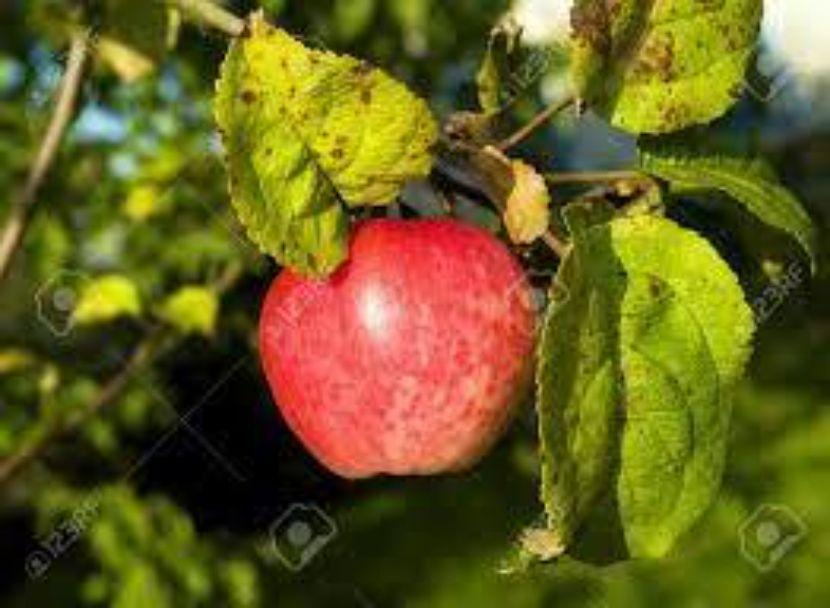fruit: (233, 201, 547, 480)
